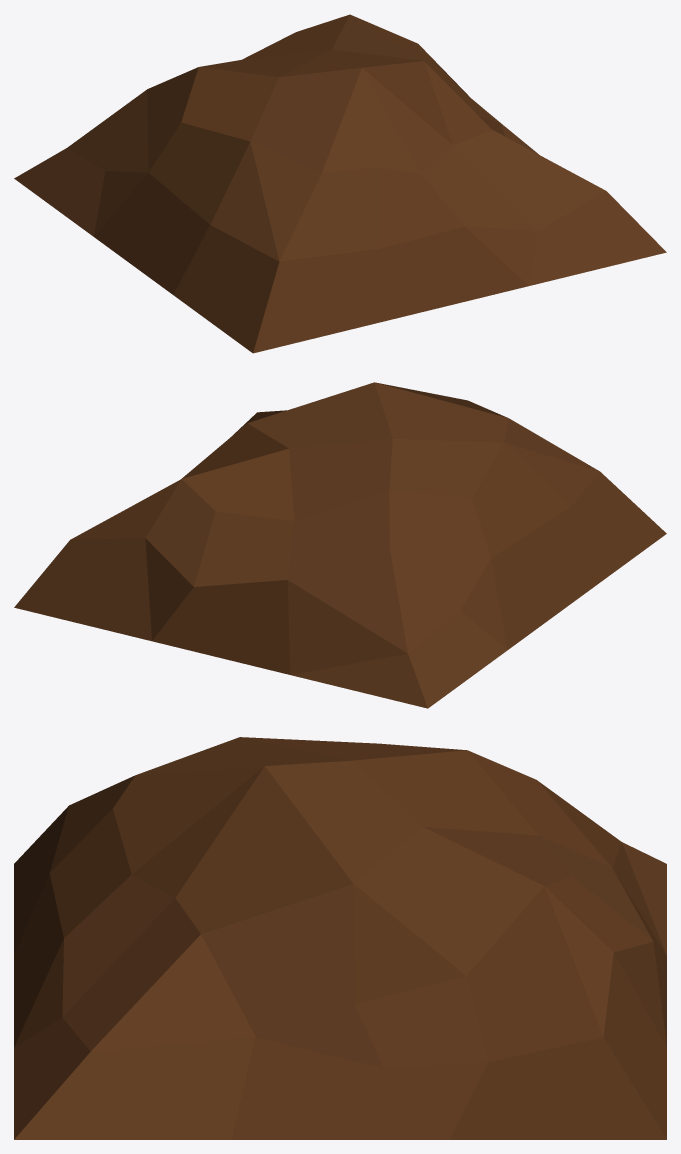
Rendered from Rocher_C.FBX.
3 views of the same model, one above another, from view 1: azimuth 30°, elevation 25°; view 2: azimuth 150°, elevation 25°; view 3: azimuth 270°, elevation 25° (orthographic). The views are drawn at different scales.
Visible parts, largest first — view 1: Rocher_C; view 2: Rocher_C; view 3: Rocher_C.
Boxes of the visible parts, box(x1,y1,x2,y2) form: Rocher_C: box(14, 14, 666, 353); Rocher_C: box(14, 382, 666, 708); Rocher_C: box(14, 737, 666, 1139).
Size of the model in its own units: 3 by 1.17 by 3.
